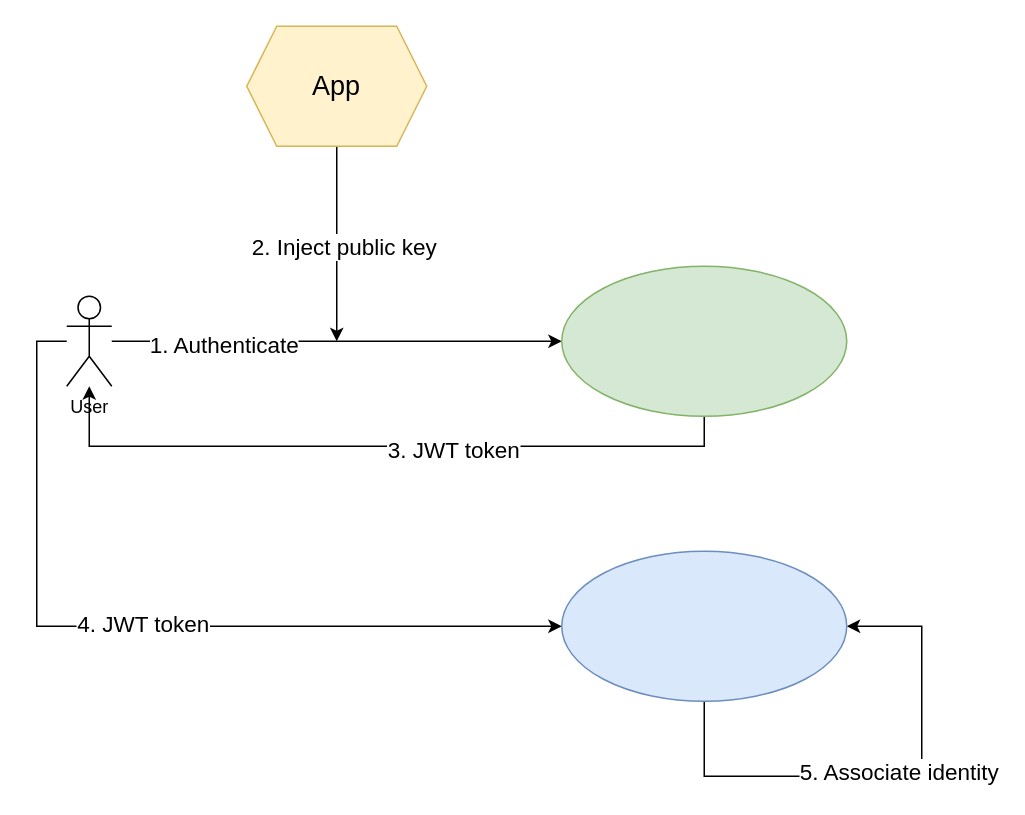
The diagram is 1025 pixels wide and 815 high, and some of its shapes have lost their labels. Each missing label, with the centre of its shape:
"Identity provider (Google)" belongs at (703,340).
"On-chain contract (Mina)" belongs at (703,625).
